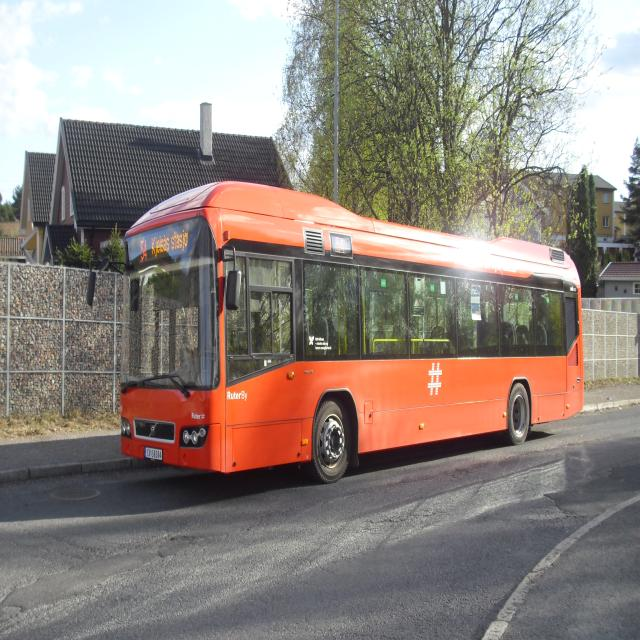Bus: (119, 181, 585, 483)
